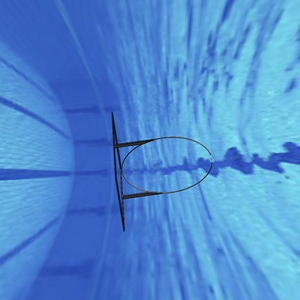circle: (107, 111, 213, 232)
